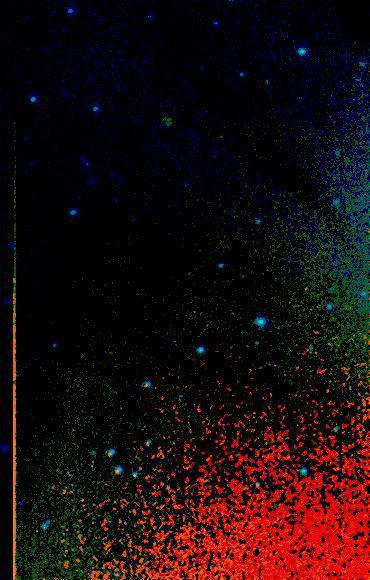star: (205, 120, 235, 150)
